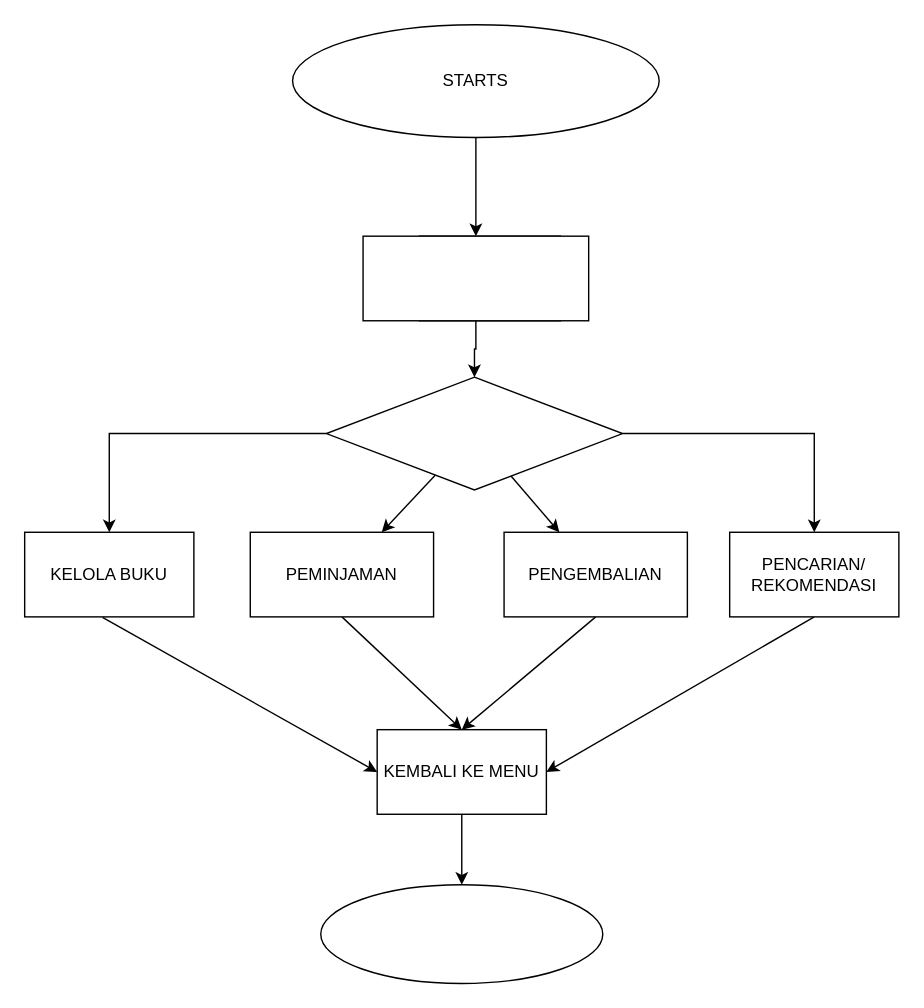
This 924x1008 diagram has some shape labels left out. The shapes that lost their labels are listed below. From the top down, each one's centre as x and y in pixels, then its label:
the point at 475,278: MENU UTAMA
the point at 474,433: PILIH MENU
the point at 461,933: SELESAI
